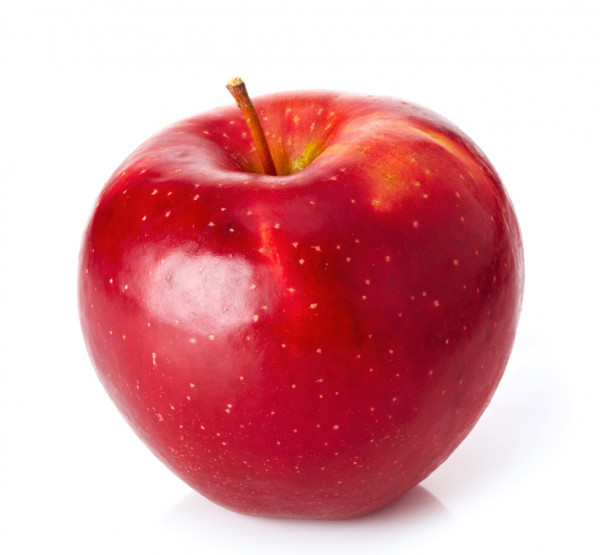apple: (76, 71, 539, 521)
